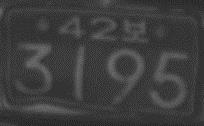1: (64, 44, 97, 102)
2: (90, 14, 120, 42)
3: (15, 43, 53, 96)
4: (58, 14, 86, 39)
5: (150, 50, 188, 109)
9: (105, 46, 145, 105)
보: (122, 17, 145, 43)
